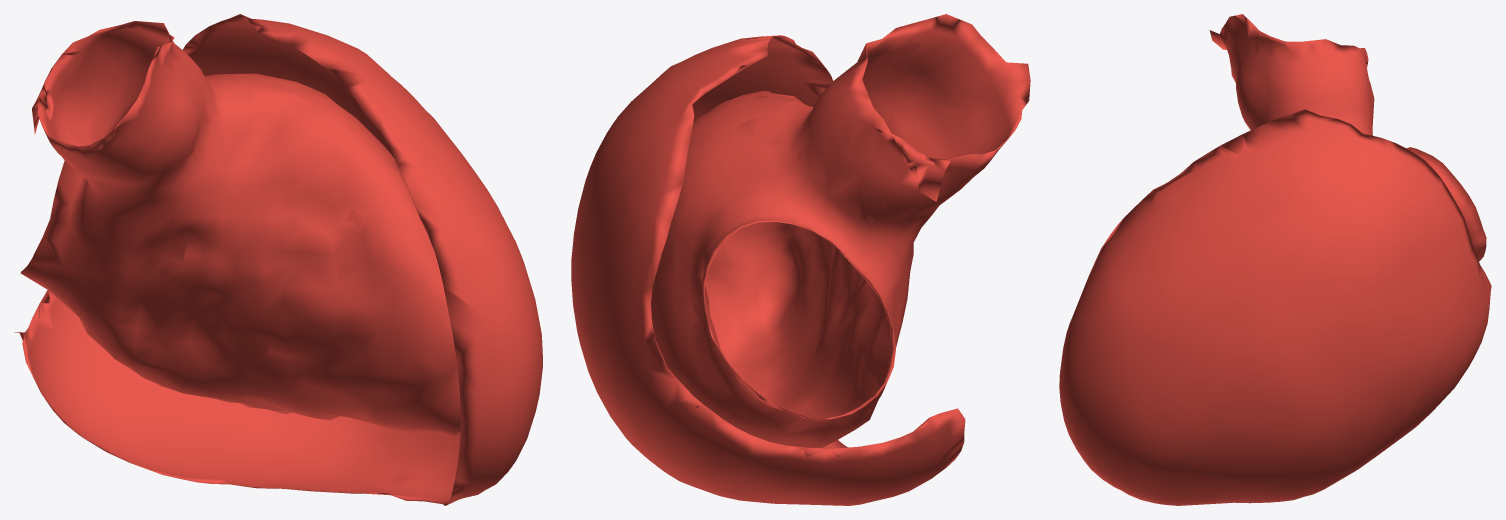
The model's file is leftventricle.gltf.
3 renders of one model, left to right at view 1: azimuth 30°, elevation 25°; view 2: azimuth 150°, elevation 25°; view 3: azimuth 270°, elevation 25°, orthographic. The views are drawn at different scales.
Parts seen in each view (by area): view 1: Leftventricle.008; view 2: Leftventricle.008; view 3: Leftventricle.008.
Boxes of the visible parts, left/top/right/bottom form: Leftventricle.008: left=14, top=14, right=542, bottom=505; Leftventricle.008: left=571, top=14, right=1030, bottom=505; Leftventricle.008: left=1059, top=14, right=1491, bottom=505.
Bounding box in the file's own units: 2.46 × 2.76 × 2.7.
